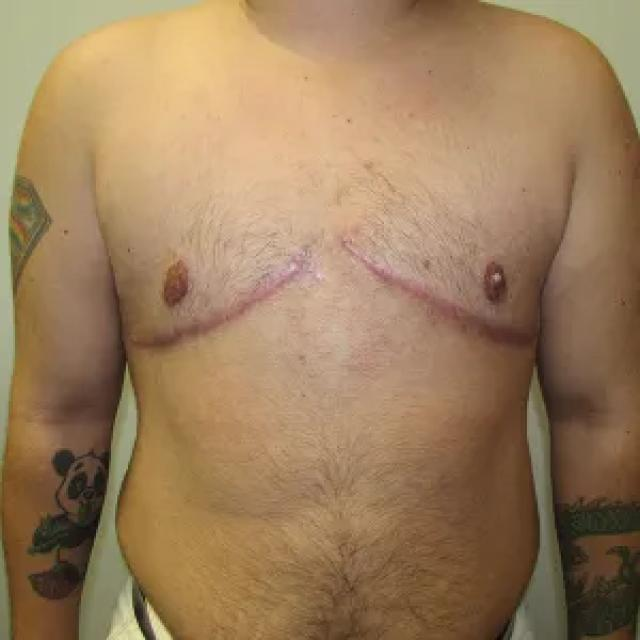Seno herido: (103, 187, 326, 369), (335, 184, 558, 366)
